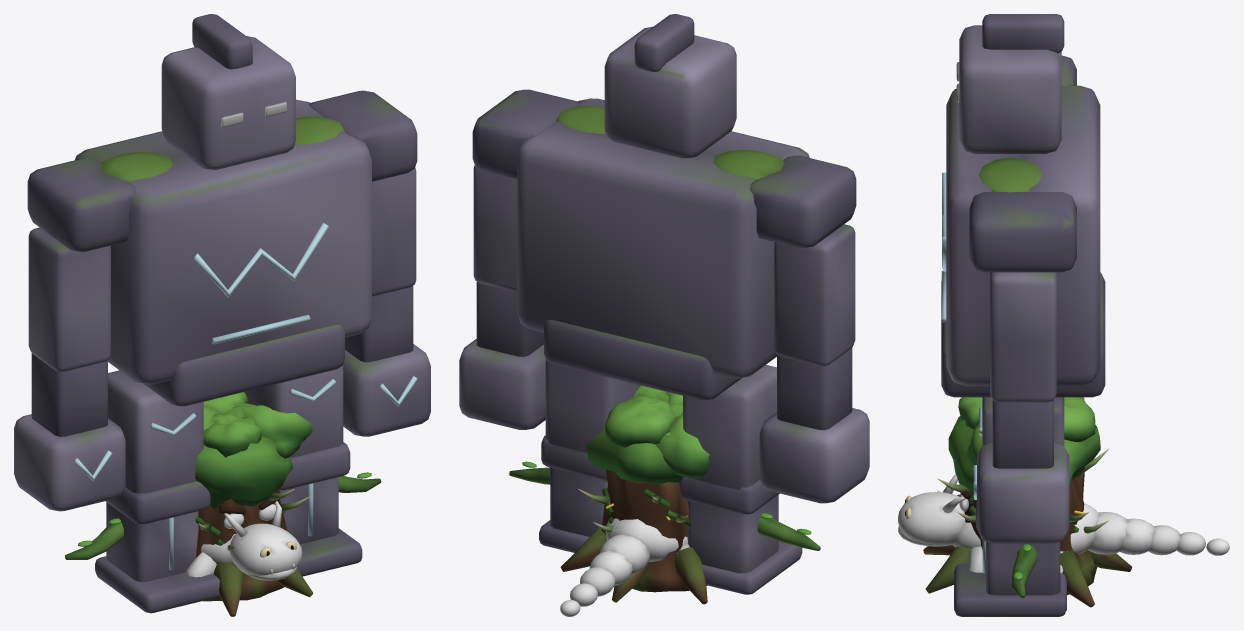
Rendered from bosses.glb.
3 renders of one model, left to right at view 1: azimuth 30°, elevation 25°; view 2: azimuth 150°, elevation 25°; view 3: azimuth 270°, elevation 25°, orthographic. The views are drawn at different scales.
Parts seen in each view (by area): view 1: TorsoM__88, ArmA__94, LegA__86, ArmB__95, HeadM__89, LegB__87, Crown__8, HeadM__48, Stump__0, Crest__90, Crown__9, Crown__12 (+3 smaller); view 2: TorsoM__88, ArmA__94, LegA__86, ArmB__95, HeadM__89, LegB__87, Stump__0, Crown__8, Crown__11, Crest__90, Crown__10, Body__42 (+7 smaller); view 3: TorsoM__88, ArmB__95, HeadM__89, LegB__87, Crest__90, HeadM__48, Crown__8, Stump__0, Body__42, Crown__11, Tail0__65, Root__7 (+7 smaller).
Part boxes in pixels (x1=…): TorsoM__88: x1=27, y1=90, x2=417, y2=406; ArmA__94: x1=14, y1=227, x2=125, y2=511; LegA__86: x1=95, y1=370, x2=219, y2=613; ArmB__95: x1=343, y1=167, x2=430, y2=436; HeadM__89: x1=161, y1=36, x2=295, y2=169; LegB__87: x1=244, y1=364, x2=362, y2=576; Crown__8: x1=195, y1=403, x2=293, y2=508; HeadM__48: x1=229, y1=523, x2=302, y2=575; Stump__0: x1=196, y1=490, x2=287, y2=601; Crest__90: x1=192, y1=14, x2=252, y2=69; Crown__9: x1=233, y1=405, x2=312, y2=458; Crown__12: x1=203, y1=413, x2=261, y2=457; TorsoM__88: x1=472, y1=89, x2=856, y2=400; ArmA__94: x1=759, y1=224, x2=869, y2=503; LegA__86: x1=678, y1=365, x2=802, y2=594; ArmB__95: x1=459, y1=165, x2=545, y2=429; HeadM__89: x1=604, y1=26, x2=736, y2=158; LegB__87: x1=539, y1=359, x2=640, y2=552; Stump__0: x1=601, y1=469, x2=707, y2=592; Crown__8: x1=586, y1=393, x2=683, y2=484; Crown__11: x1=605, y1=396, x2=674, y2=447; Crest__90: x1=634, y1=14, x2=694, y2=71; Crown__10: x1=655, y1=412, x2=709, y2=478; Body__42: x1=605, y1=518, x2=687, y2=561; TorsoM__88: x1=941, y1=55, x2=1105, y2=397; ArmB__95: x1=973, y1=272, x2=1069, y2=543; HeadM__89: x1=959, y1=25, x2=1061, y2=153; LegB__87: x1=954, y1=397, x2=1066, y2=616; Crest__90: x1=982, y1=14, x2=1064, y2=53; HeadM__48: x1=898, y1=492, x2=964, y2=546; Crown__8: x1=948, y1=416, x2=1100, y2=492; Stump__0: x1=964, y1=468, x2=1097, y2=595; Body__42: x1=952, y1=503, x2=1099, y2=554; Crown__11: x1=1064, y1=397, x2=1095, y2=441; Tail0__65: x1=1088, y1=512, x2=1127, y2=554; Root__7: x1=1060, y1=550, x2=1094, y2=607.
Bounding box in the file's own units: 17.6 × 23.91 × 12.94.
